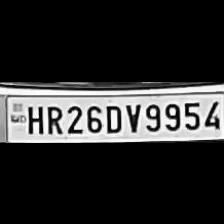2: (64, 102, 82, 132)
4: (202, 97, 222, 129)
5: (182, 98, 200, 130)
6: (84, 101, 103, 133)
9: (142, 98, 162, 132), (162, 98, 180, 130)
D: (103, 101, 123, 133)
H: (24, 100, 42, 134)
R: (43, 102, 62, 134)
V: (122, 100, 142, 132)
